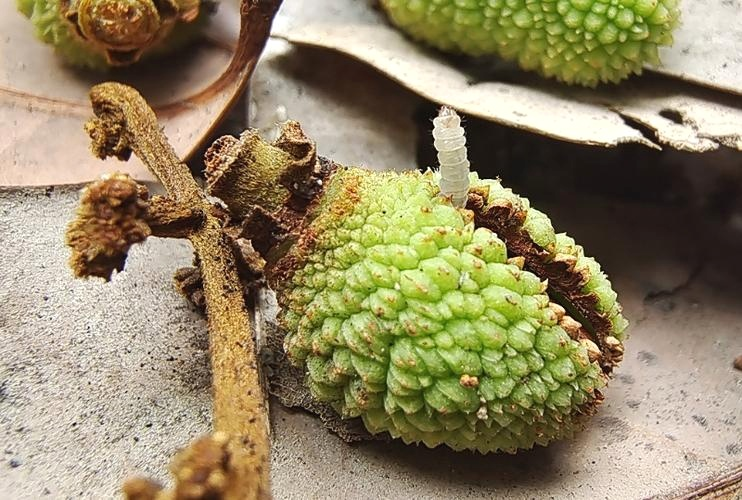Borer: (412, 103, 497, 235)
